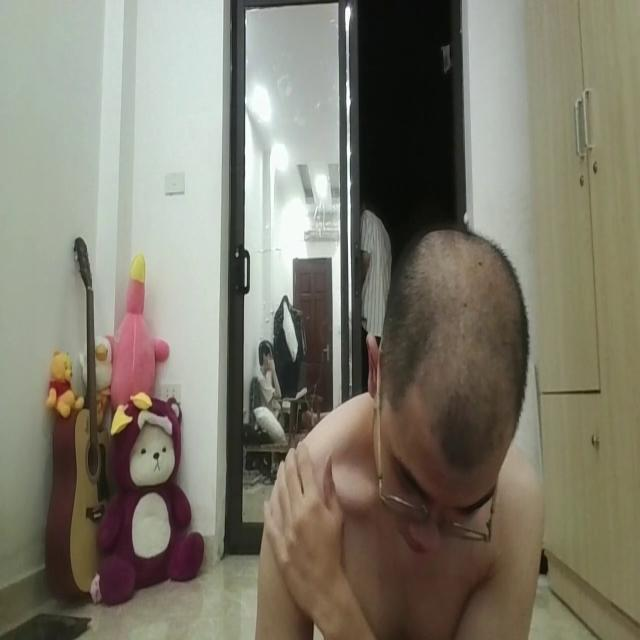extra_person: (349, 162, 411, 366), (246, 309, 292, 464)
student: (251, 219, 548, 640)
